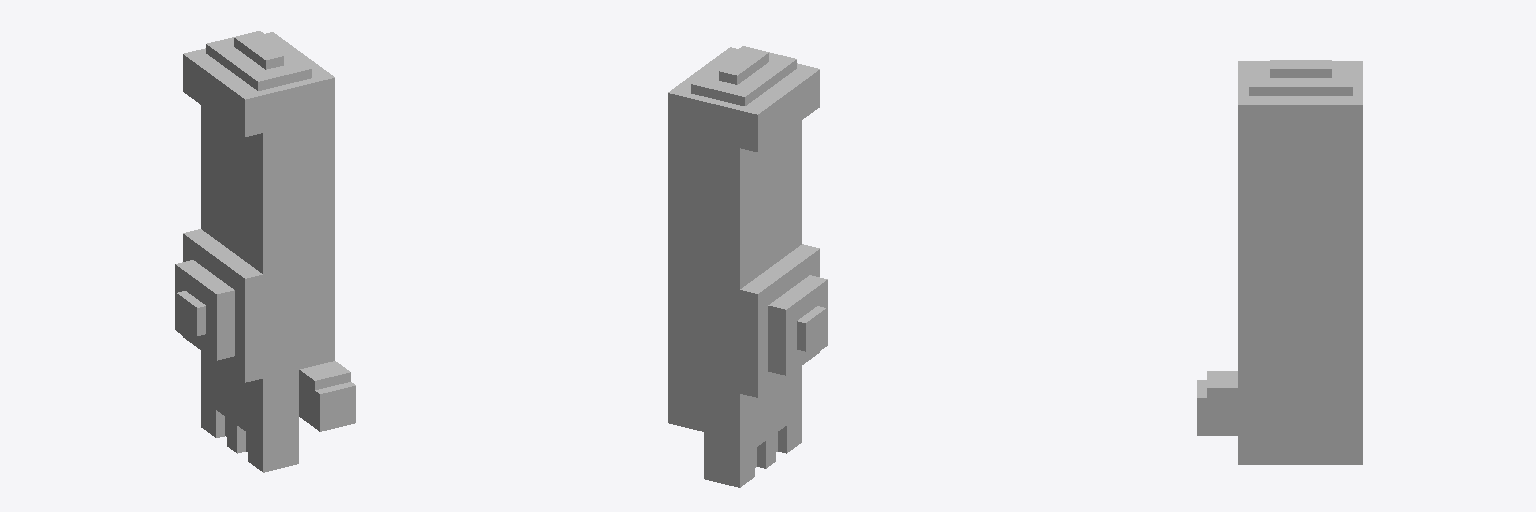
The model's file is lefthand.obj.
3 views of the same model, side by side, from view 1: azimuth 30°, elevation 25°; view 2: azimuth 150°, elevation 25°; view 3: azimuth 270°, elevation 25° (orthographic).
Size of the model in its own units: 13 by 42 by 16.